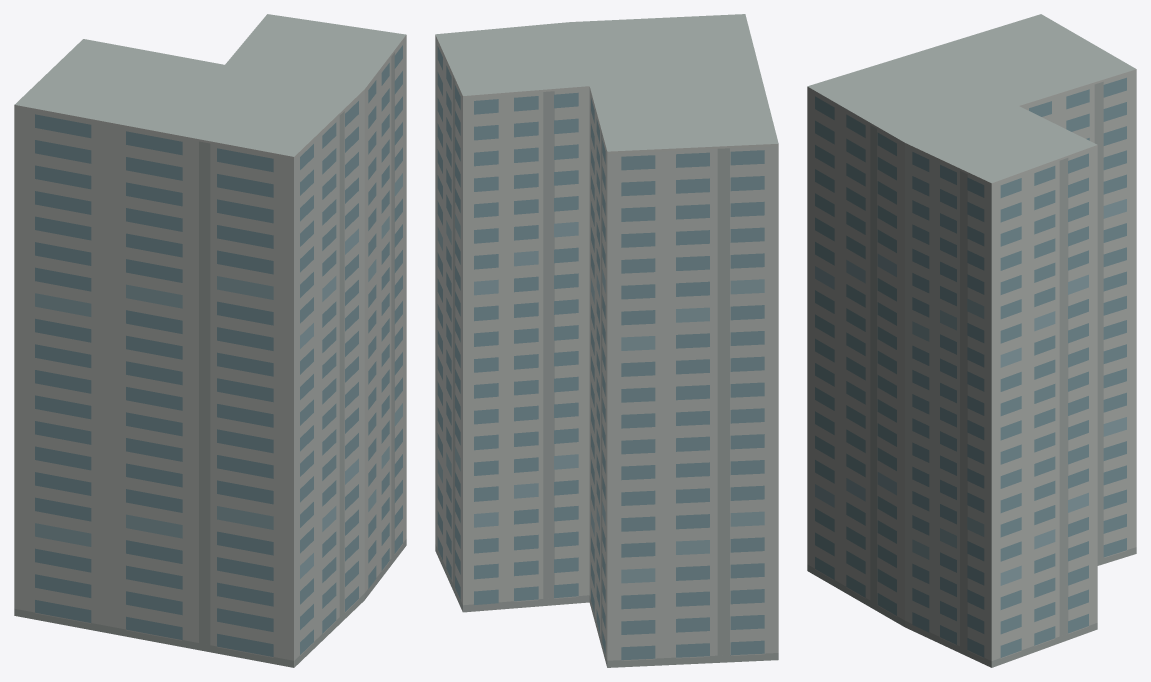
Rendered from residential-d7a088a3-caa2-4330-b3fd-045a7061947d.glb.
3 renders of one model, left to right at view 1: azimuth 30°, elevation 25°; view 2: azimuth 150°, elevation 25°; view 3: azimuth 270°, elevation 25°, orthographic. The views are drawn at different scales.
Parts seen in each view (by area): view 1: residential-d7a088a3-caa2-4330-b3fd-045a7061947d.tmp; view 2: residential-d7a088a3-caa2-4330-b3fd-045a7061947d.tmp; view 3: residential-d7a088a3-caa2-4330-b3fd-045a7061947d.tmp.
Part boxes in pixels (x1,y1,x2,y2): residential-d7a088a3-caa2-4330-b3fd-045a7061947d.tmp: (14,14,406,667); residential-d7a088a3-caa2-4330-b3fd-045a7061947d.tmp: (435,14,778,667); residential-d7a088a3-caa2-4330-b3fd-045a7061947d.tmp: (807,14,1136,667).
Bounding box in the file's own units: 41.98 × 56 × 34.52.
